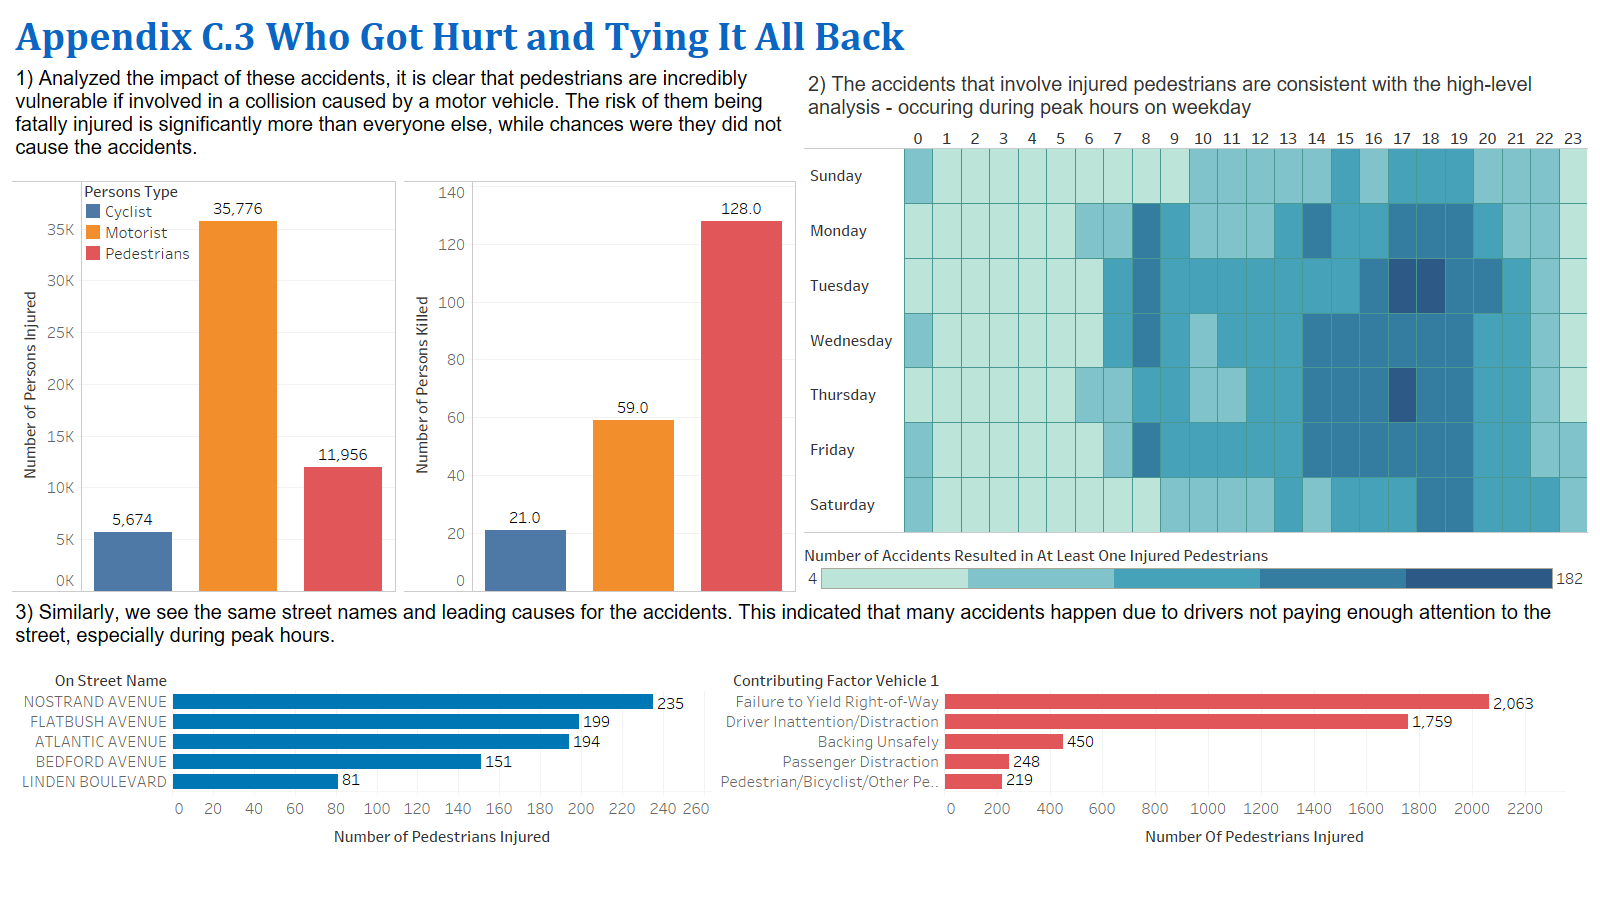

The page's visual inventory and layout, read from the dashboard file:
{"tool":"tableau","page":{"name":"C. Who and How","canvas":[1600,900],"ordinal":2},"visuals":[{"type":"text","box":[8,8,792,106]},{"type":"worksheet","title":"Injured: When","mark":"Square","rows":["timestamp"],"cols":["timestamp"],"box":[800,8,792,505]},{"type":"worksheet","title":"Who n How: Injured","mark":"Automatic","cols":["borough"],"box":[8,114,392,462.6]},{"type":"worksheet","title":"Who n How: Death","mark":"Automatic","cols":["borough"],"box":[400,114,400,462.6]},{"type":"legend","title":"Who n How: Death","param":"[federated.0pb207n0bds7qe139jj160lan2d5].[:Measure Names]","box":[83,138,140,85]},{"type":"legend","title":"Injured: When","param":"[federated.191hya31hsng831bw4i491q4hc4q].[cnt:borough:qk]","box":[800,513,792,63.6]},{"type":"text","box":[8,576.6,1584,59.4]},{"type":"worksheet","title":"Injured: Street","mark":"Automatic","rows":["on_street_name"],"cols":["borough"],"box":[8,636,708,256]},{"type":"worksheet","title":"Who n How: Cause of Death","mark":"Automatic","rows":["contributing_factor_vehicle_1"],"cols":["number_of_pedestrians_injured"],"box":[716,636,876,256]}]}

Visuals, with their boxes in screenshot pixels (x1, y1, x2, y2), scaled from the page's 1600x900 canvas onto the 1600x900 screenshot:
text: 8,8,800,114
"Injured: When" worksheet (Square marks): 800,8,1592,513
"Who n How: Injured" worksheet: 8,114,400,577
"Who n How: Death" worksheet: 400,114,800,577
"Who n How: Death" legend: 83,138,223,223
"Injured: When" legend: 800,513,1592,577
text: 8,577,1592,636
"Injured: Street" worksheet: 8,636,716,892
"Who n How: Cause of Death" worksheet: 716,636,1592,892
